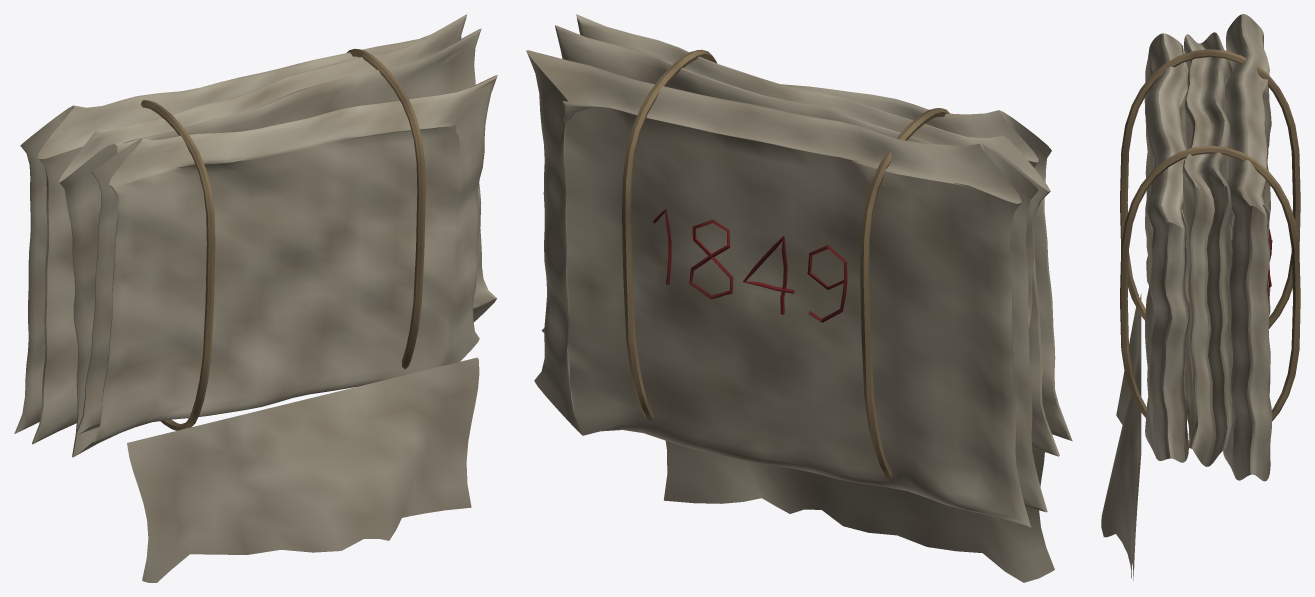
The model's file is burial-shroud.glb.
3 views of the same model, side by side, from view 1: azimuth 30°, elevation 25°; view 2: azimuth 150°, elevation 25°; view 3: azimuth 270°, elevation 25° (orthographic). The views are drawn at different scales.
Parts seen in each view (by area): view 1: burial-shroud; view 2: burial-shroud; view 3: burial-shroud.
Boxes of the visible parts, x1,y1,x2,y2 form: burial-shroud: (14,14,497,582); burial-shroud: (526,14,1072,582); burial-shroud: (1101,14,1300,580).
Bounding box in the file's own units: 0.2571 × 0.2426 × 0.1049.
